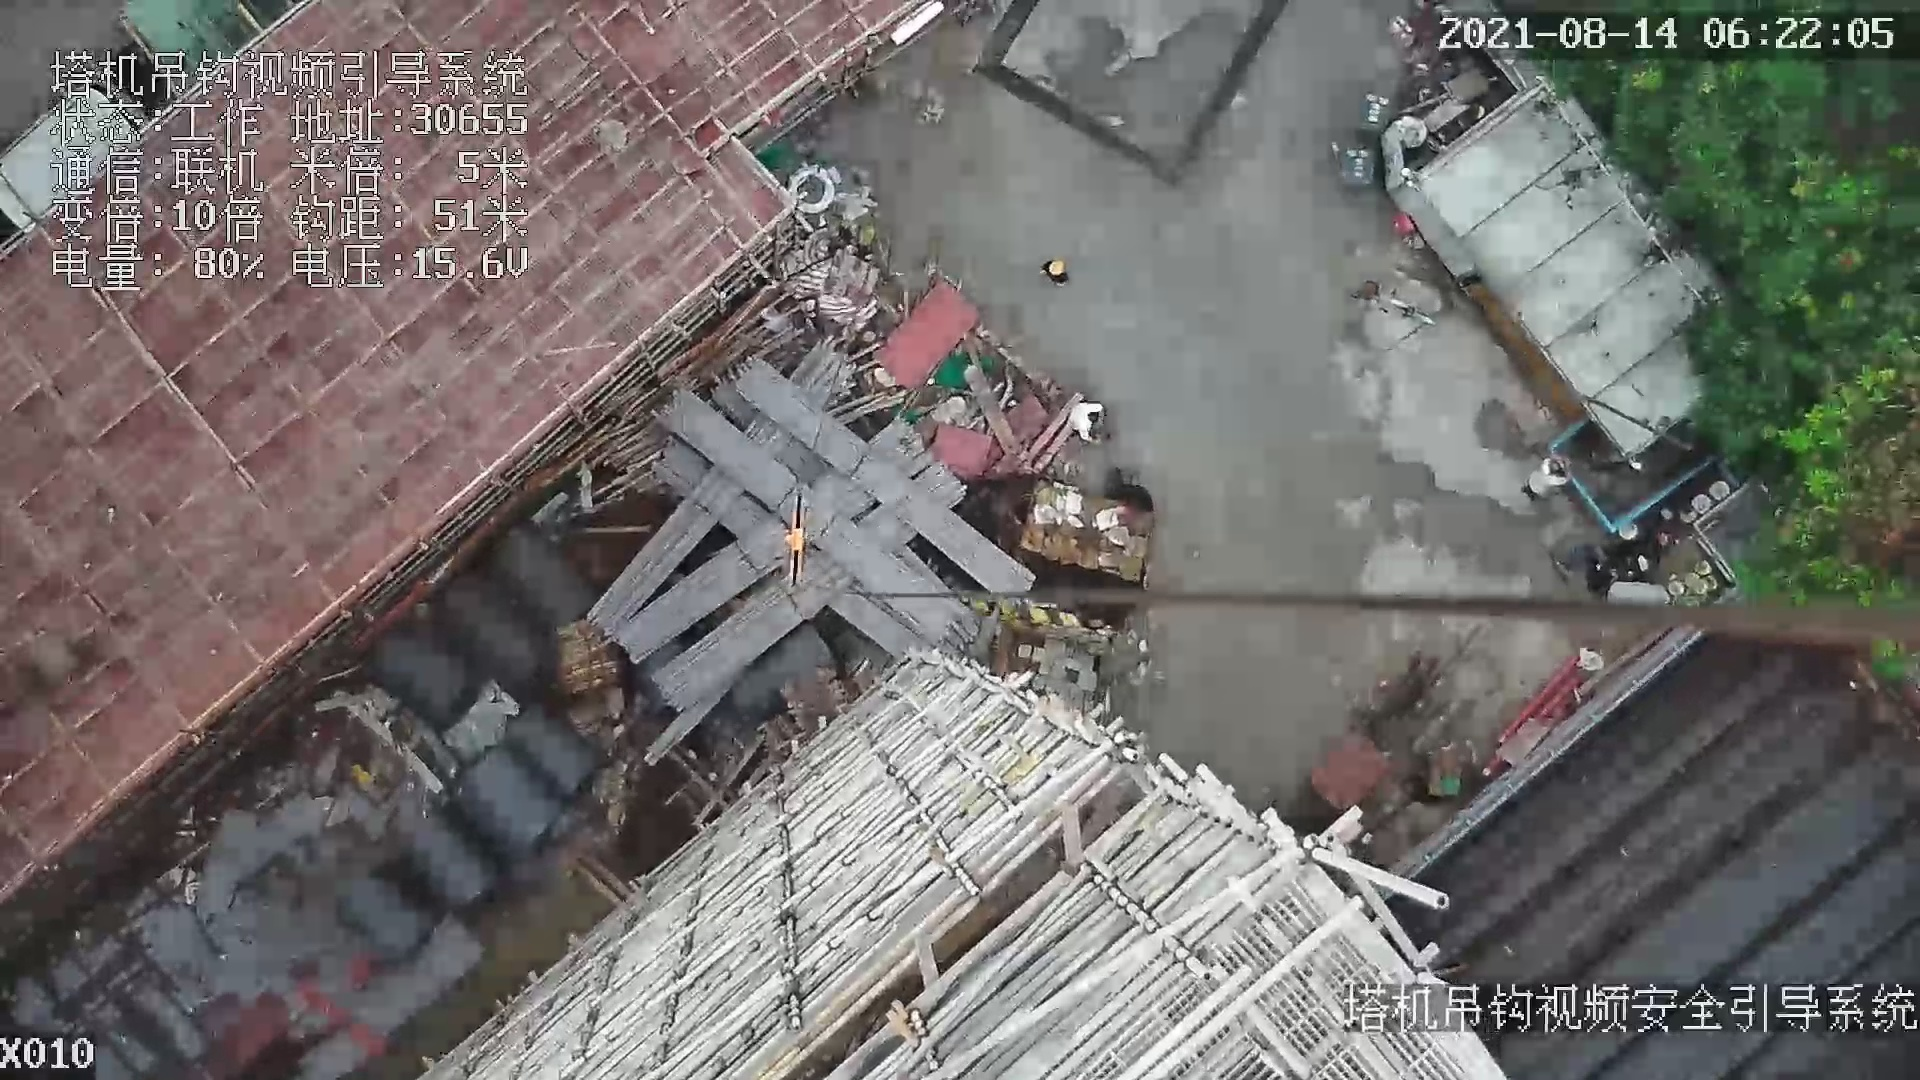helmet: (1048, 260, 1066, 278)
hook: (781, 490, 808, 587)
person: (1038, 253, 1074, 290)
